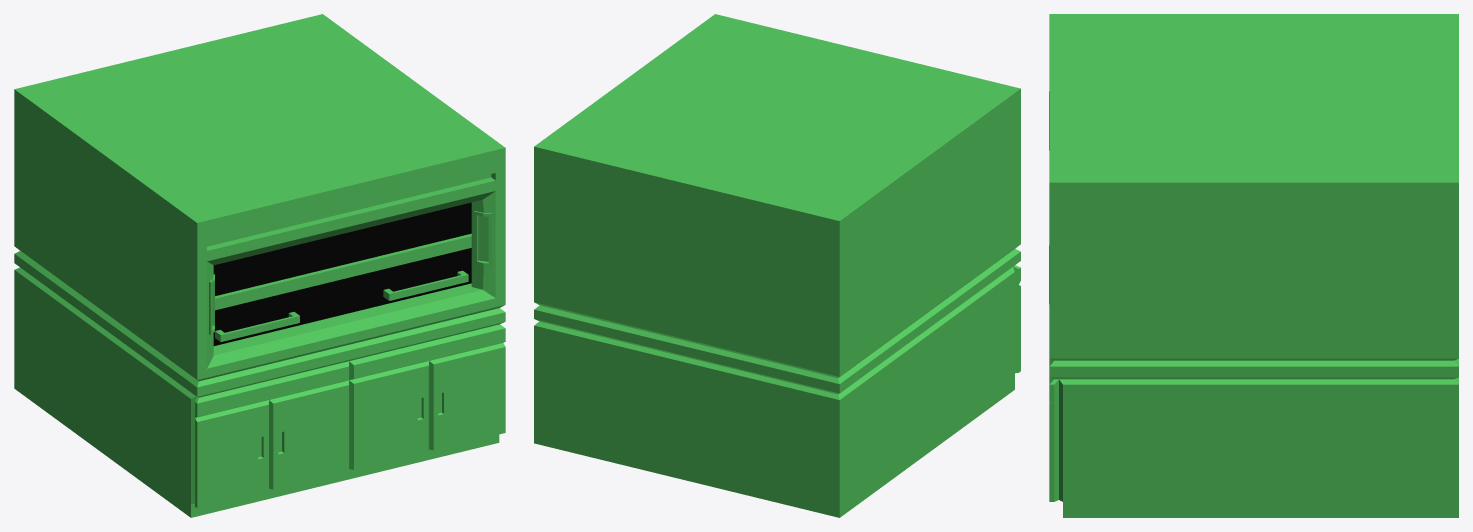
File: Ph_experimental_unit.fbx
The picture shows the model from 3 angles, left to right: view 1: azimuth 30°, elevation 25°; view 2: azimuth 150°, elevation 25°; view 3: azimuth 270°, elevation 25°; orthographic projection. The views are drawn at different scales.
Parts seen in each view (by area): view 1: Cube_44; view 2: Cube_44; view 3: Cube_44.
Part boxes in pixels (x1,y1,x2,y2): Cube_44: (14, 14, 505, 517); Cube_44: (534, 14, 1020, 517); Cube_44: (1049, 14, 1458, 517).
Bounding box in the file's own units: 229 × 212 × 235.
